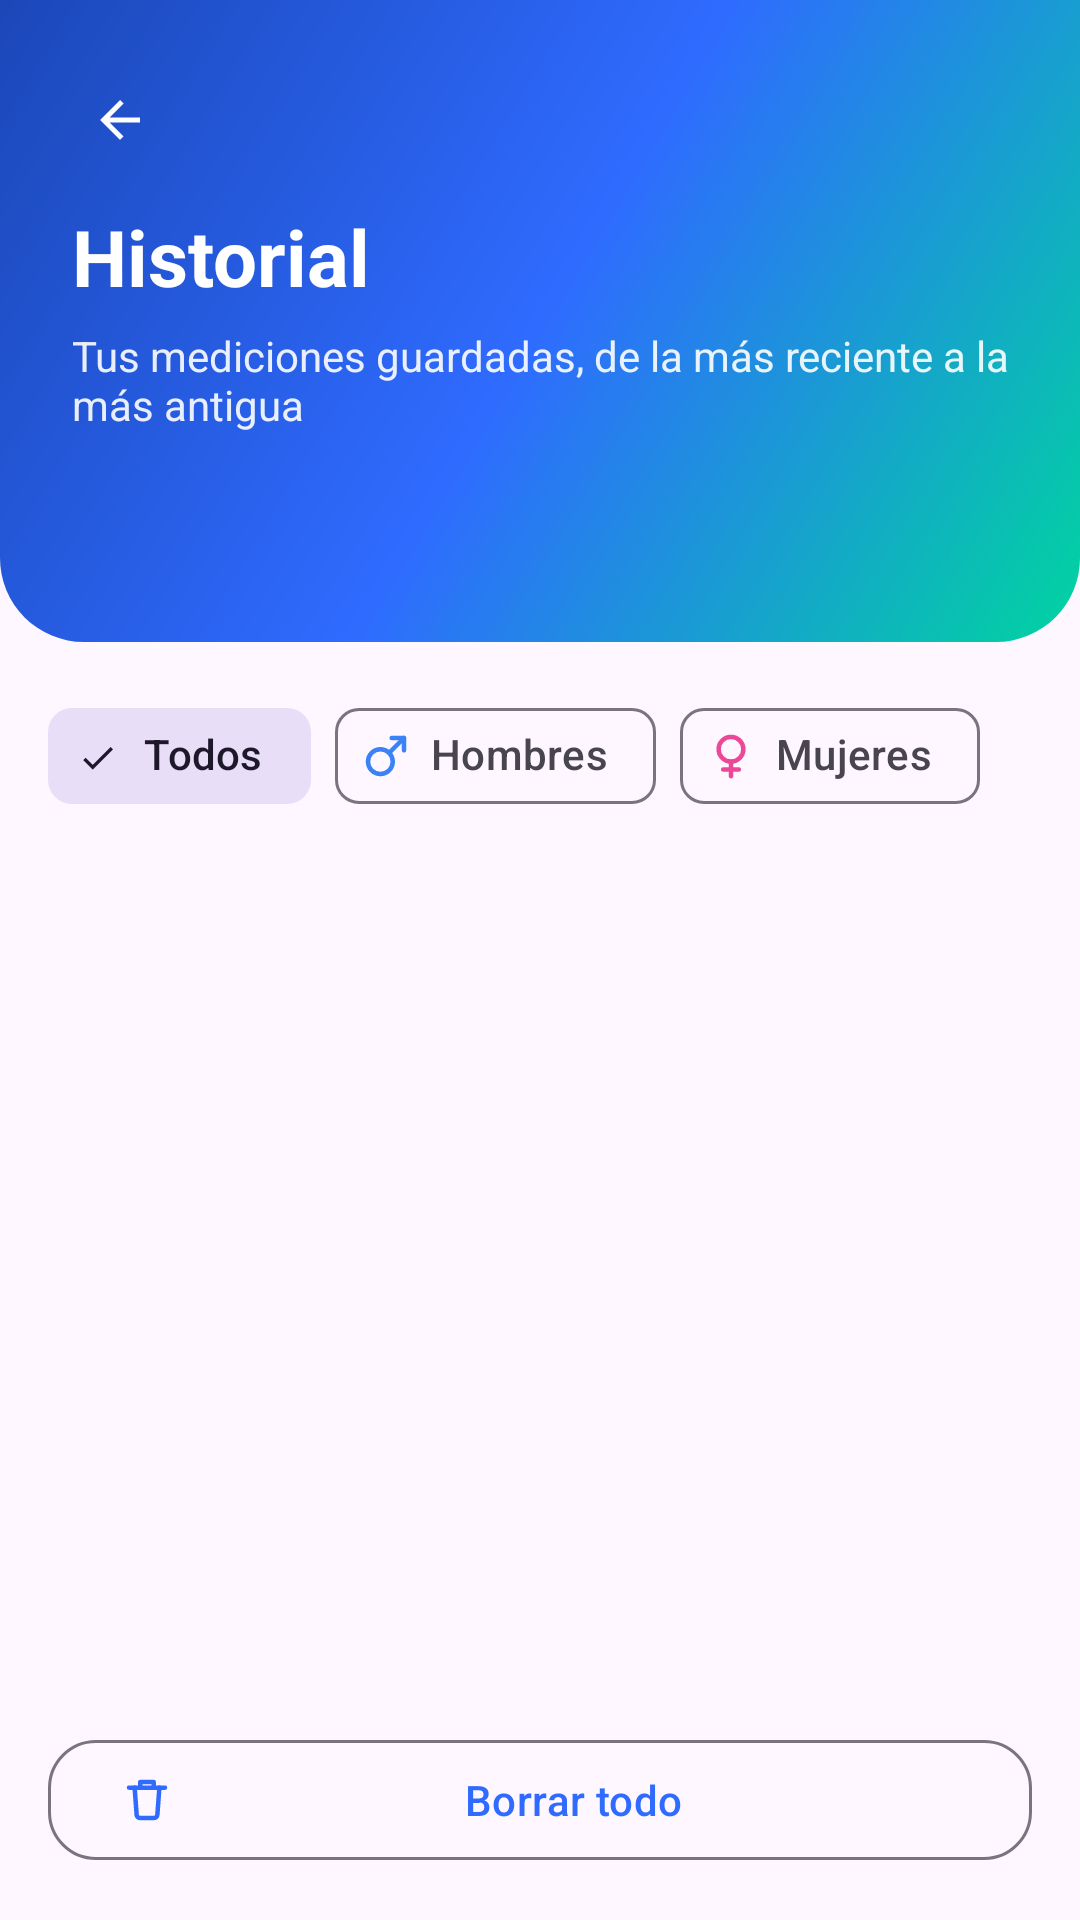

Where to tap for icons on this 1080px×1920px app screen, as point (x, y):
Volver atrás: point (120, 120)
